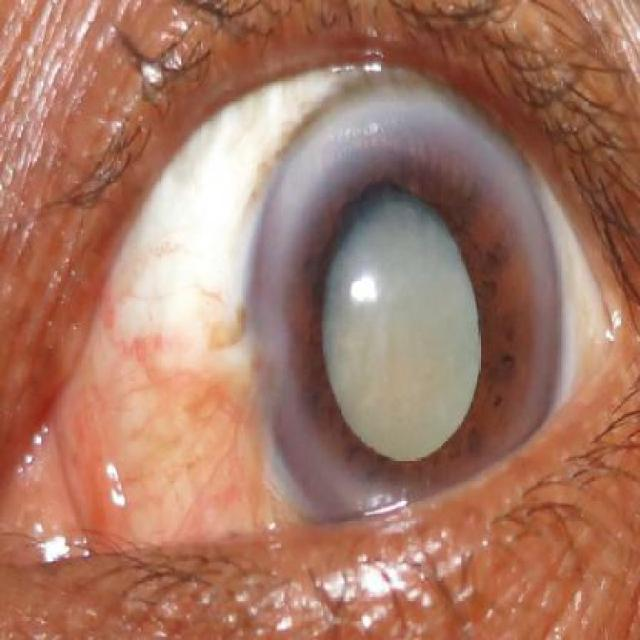Cataract: (250, 92, 564, 564)
